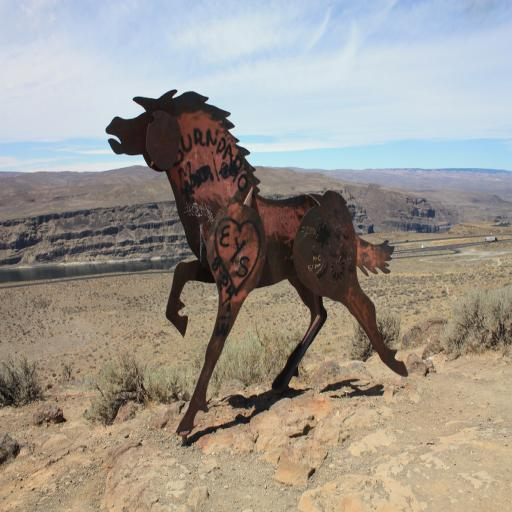horse: (103, 84, 408, 444)
